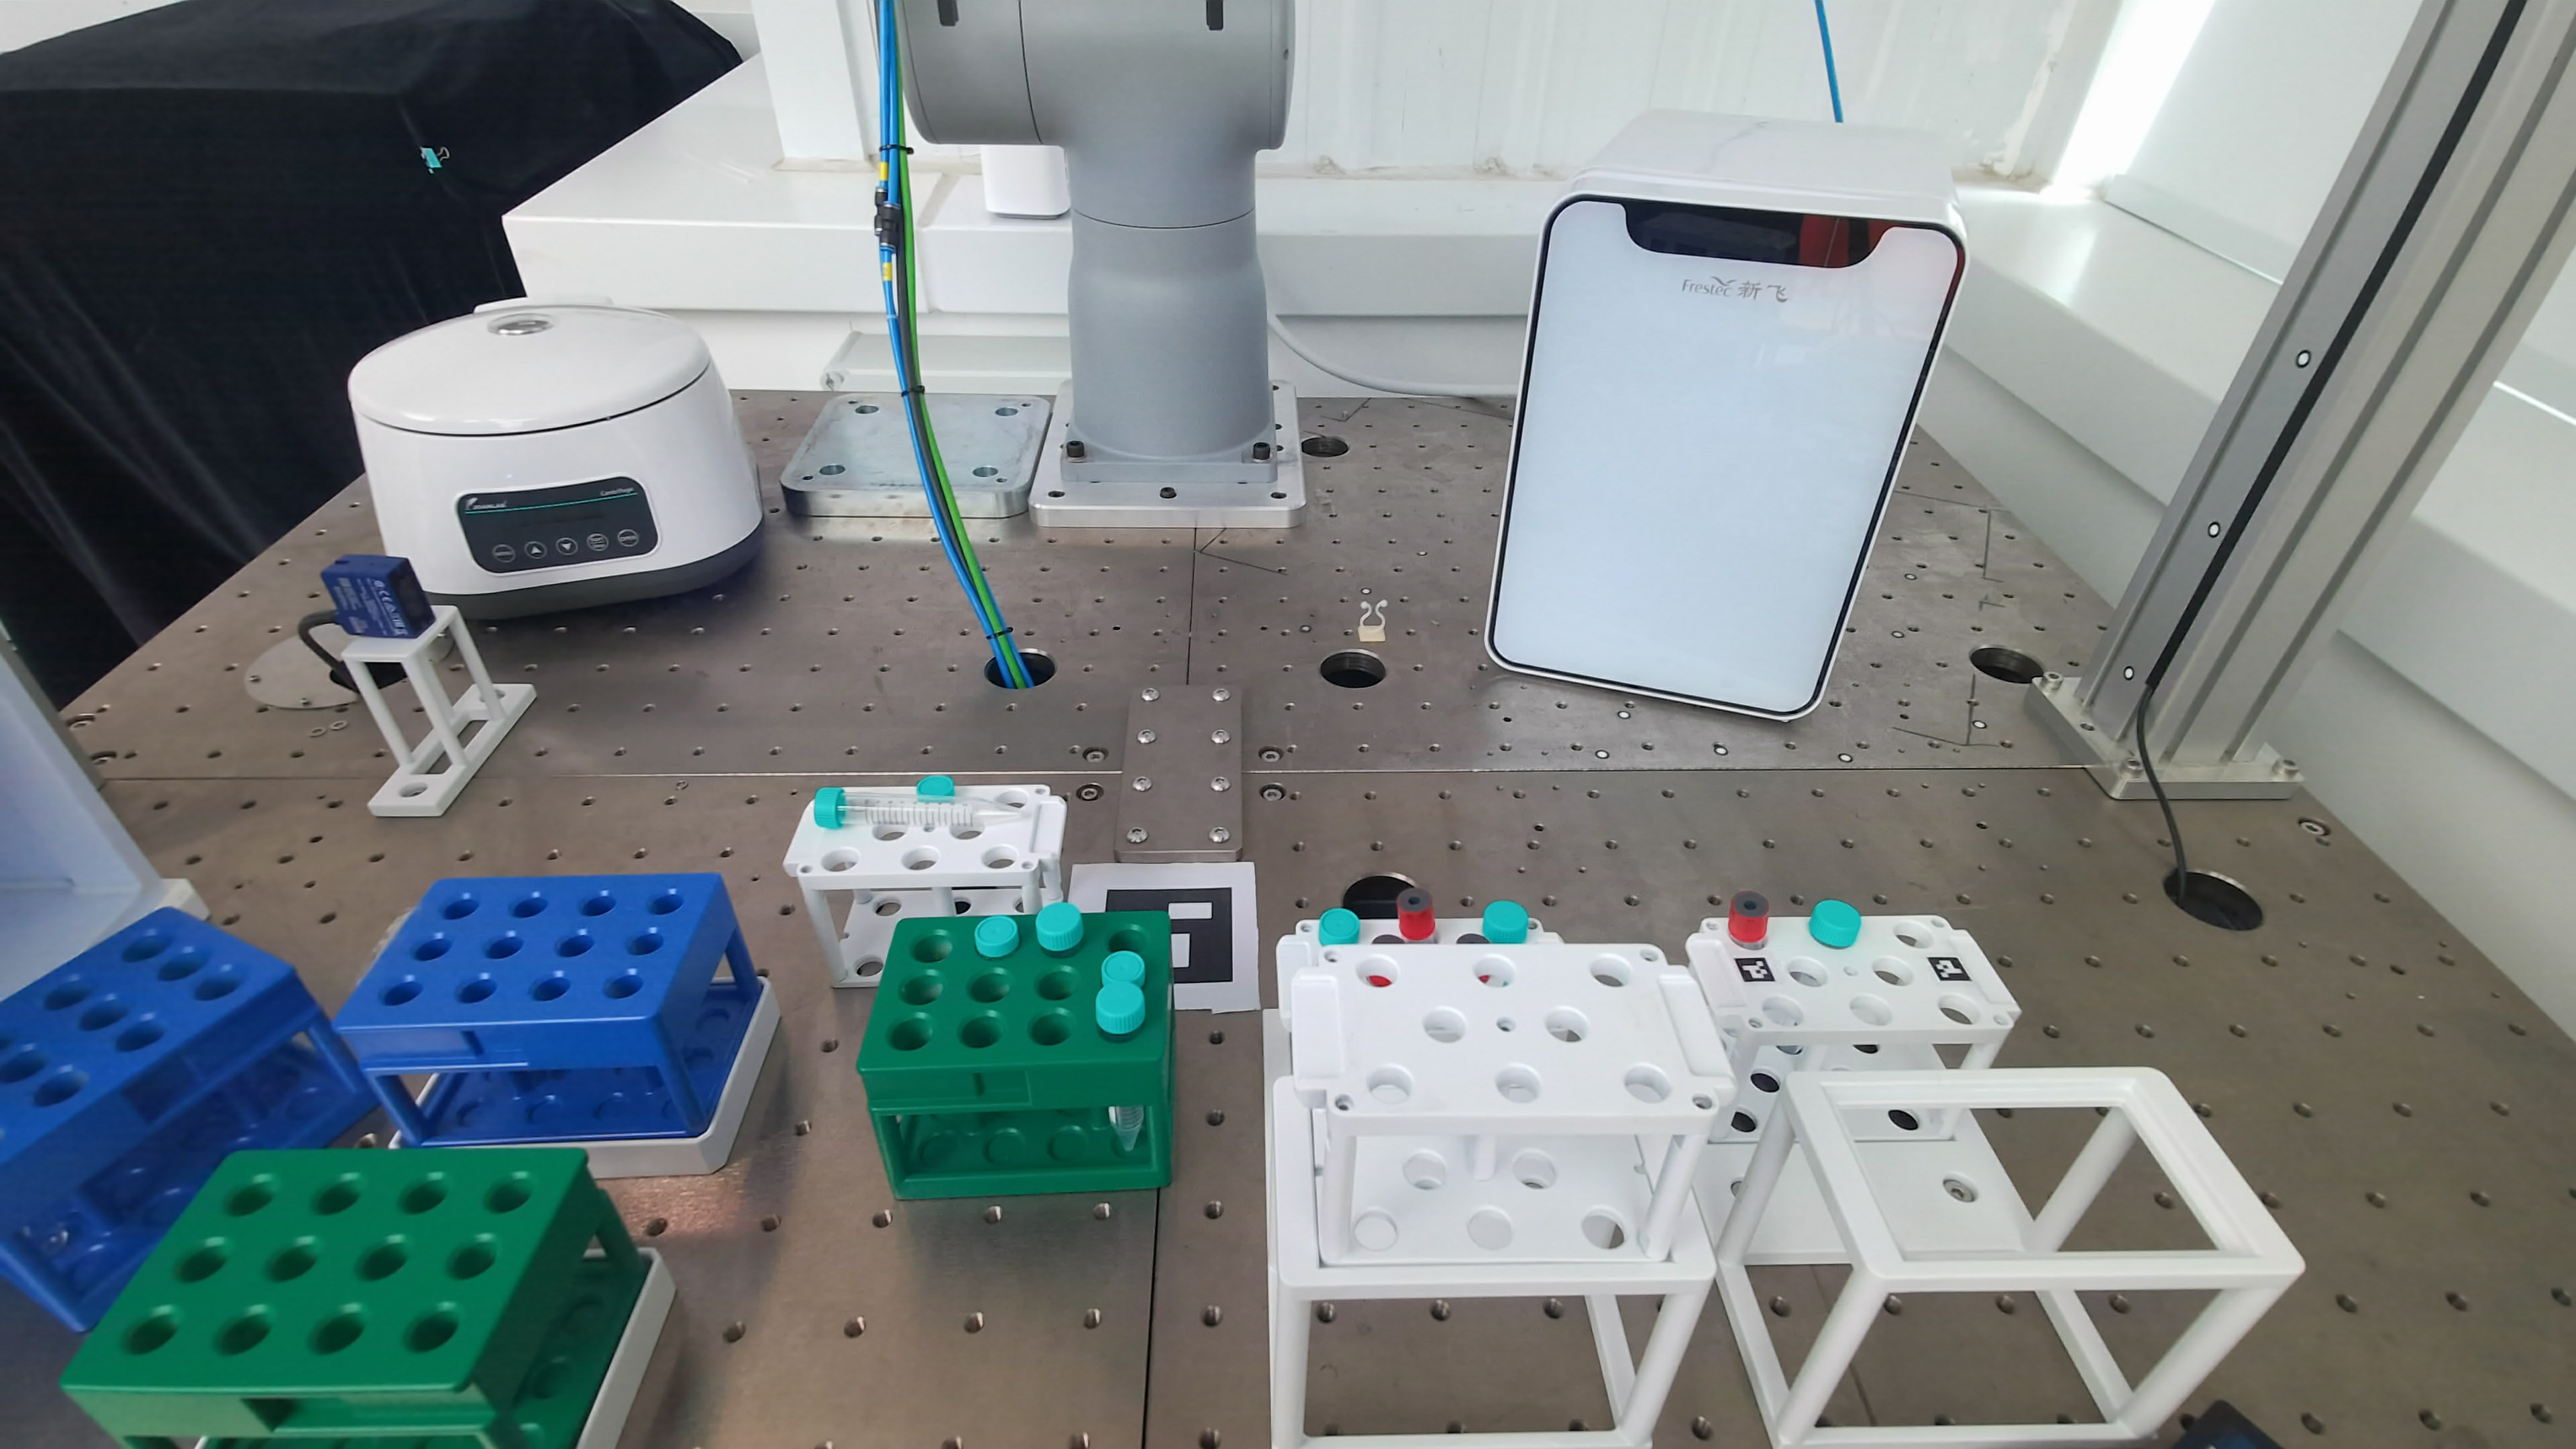10ML_centrifuge_tube: (1035, 902, 1146, 1031), (814, 787, 1062, 830), (1095, 984, 1146, 1039), (1810, 901, 1861, 948), (1483, 901, 1530, 945)
10ML_sorting_tube_rack: (0, 908, 373, 1330), (334, 874, 763, 1143)
5ML_centrifuge_tube: (973, 915, 1019, 959), (916, 775, 955, 800)
5ML_sorting_tube_rack: (64, 1150, 649, 1445), (858, 911, 1175, 1200)
blood_tube: (1729, 892, 1771, 947), (1396, 885, 1433, 913)
centrifuge_close: (350, 299, 763, 619)
dispensing_tube_rack: (1267, 918, 2302, 1445), (786, 786, 1065, 985)
refrigerator_close: (1484, 111, 1966, 718)
sorting_tube_rack_base: (520, 982, 778, 1178), (534, 982, 778, 1178), (577, 1247, 674, 1449)
tube_rack_storage_cabinet: (0, 640, 207, 1000)
